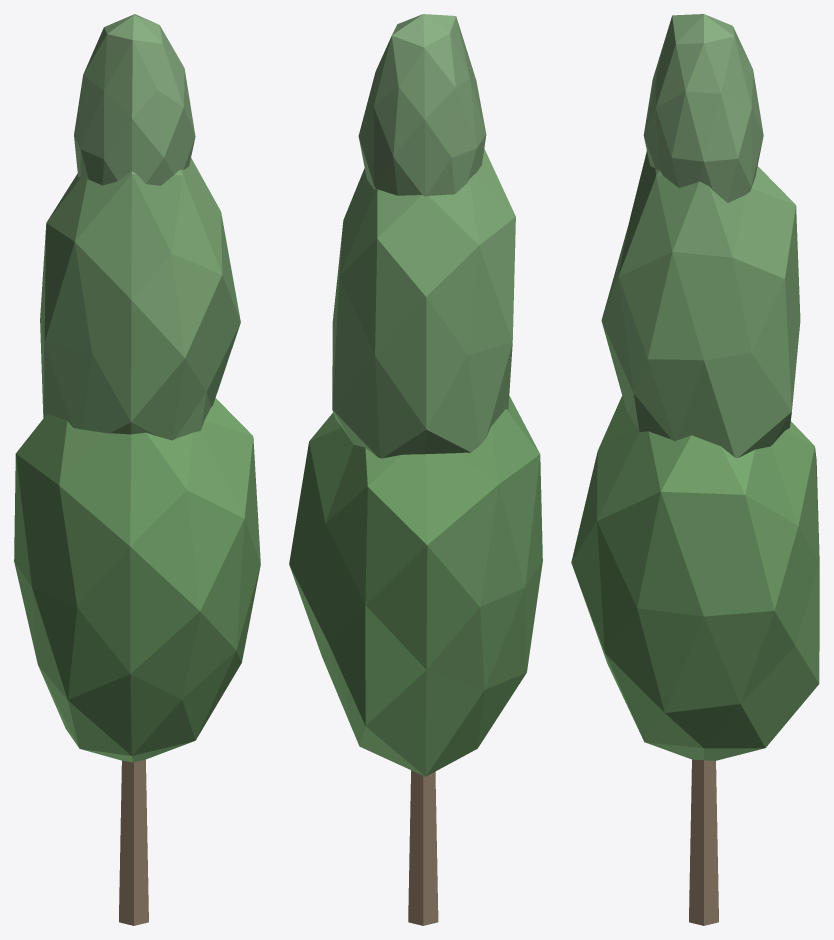
File: tree_poplar.glb
The picture shows the model from 3 angles, left to right: view 1: azimuth 30°, elevation 25°; view 2: azimuth 150°, elevation 25°; view 3: azimuth 270°, elevation 25°; orthographic projection.
Parts seen in each view (by area): view 1: TreePoplar; view 2: TreePoplar; view 3: TreePoplar.
Part boxes in pixels (x1=…): TreePoplar: x1=14, y1=14, x2=260, y2=925; TreePoplar: x1=289, y1=14, x2=542, y2=925; TreePoplar: x1=571, y1=14, x2=819, y2=925.
Size of the model in its own units: 3.12 by 12.7 by 3.16.
